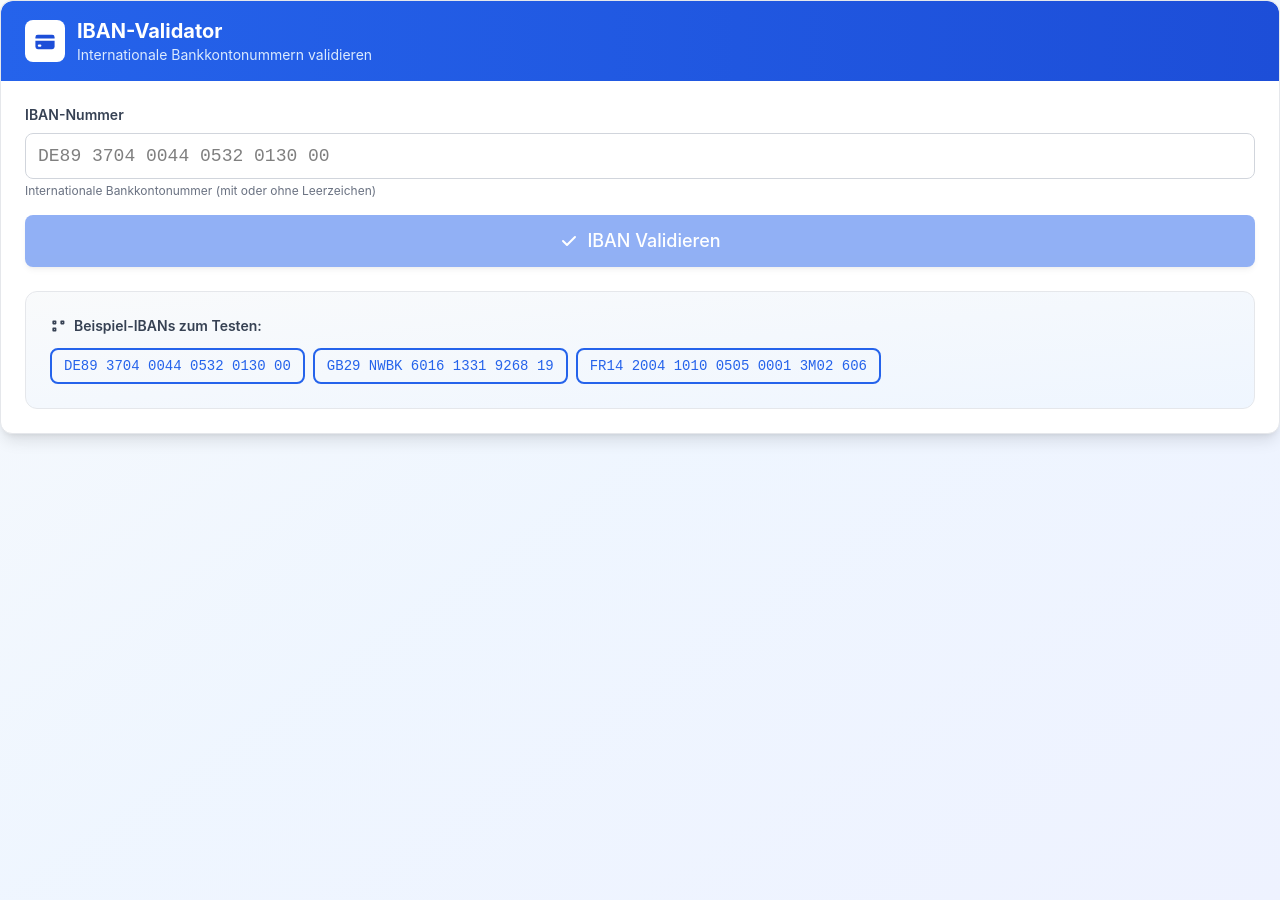
Test: IbanValidator Component › sollte erfolgreiche Validierung anzeigen
The image size is (1280, 900).
Type "DE89370400440532013000" into the field labelled "IBAN-Nummer" at (640, 156), box [25,133,1255,179]
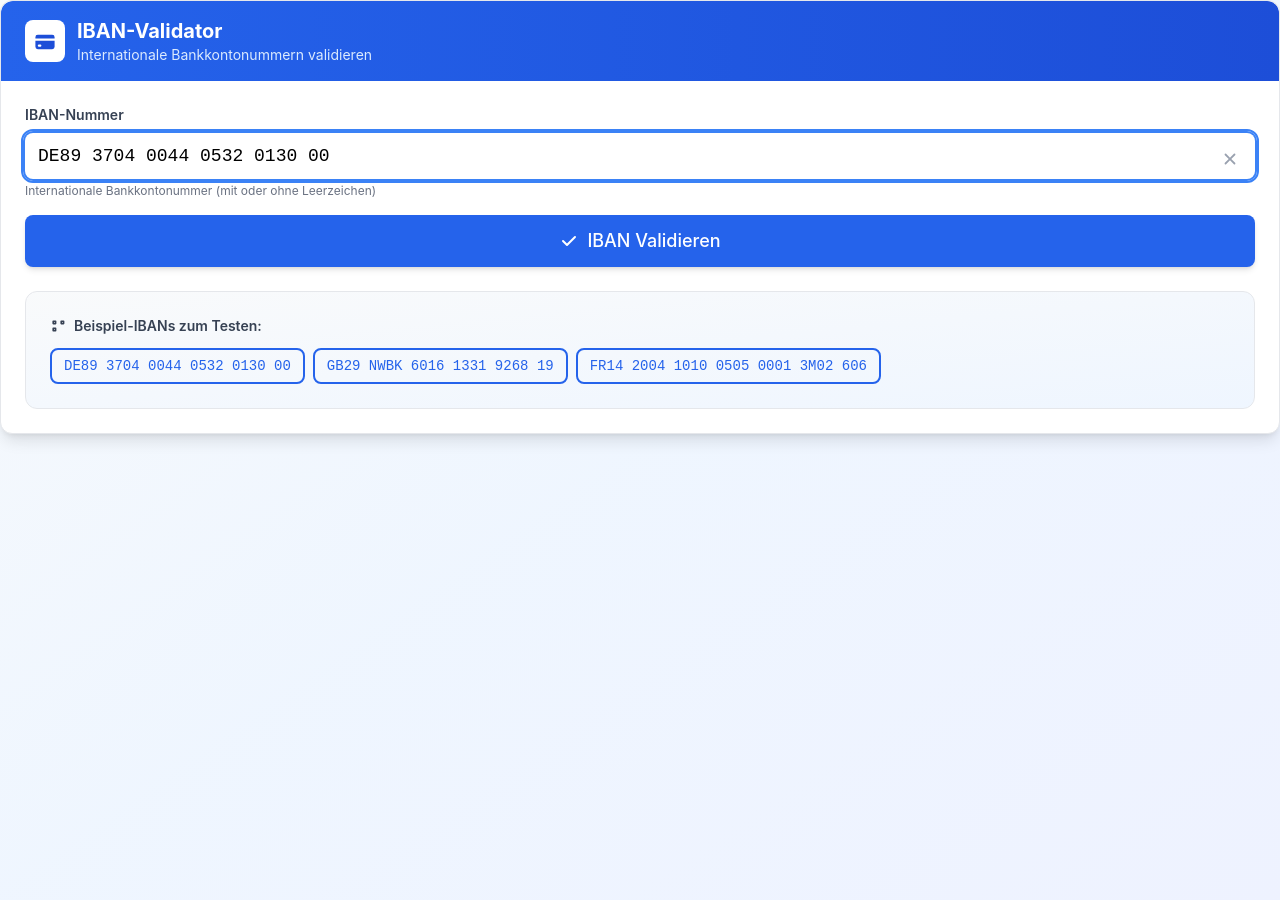
Click the button "IBAN Validieren" at (640, 241), box [25,215,1255,267]
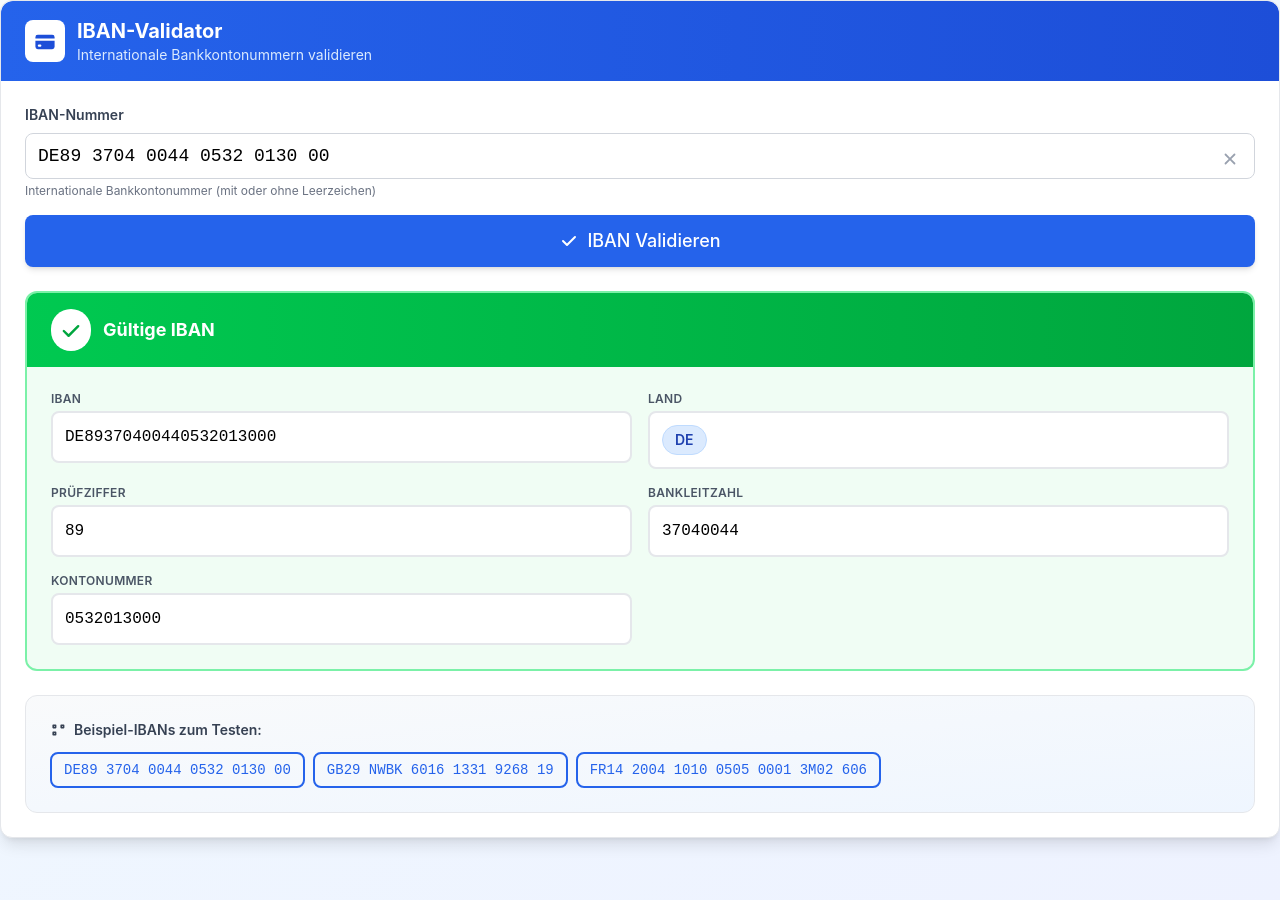
Expected: the heading "Gültige IBAN" is shown, [103,316,215,344]
Expected: the text "DE89370400440532013000" is shown, [51,411,632,463]
Expected: the text "37040044" is shown, [648,505,1229,557]
